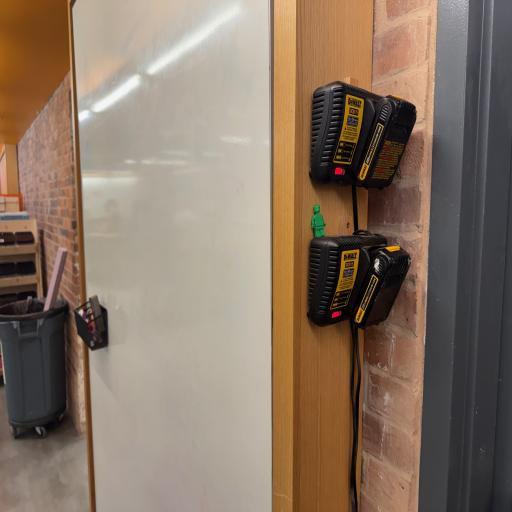Lego-Dude: (311, 204, 326, 237)
